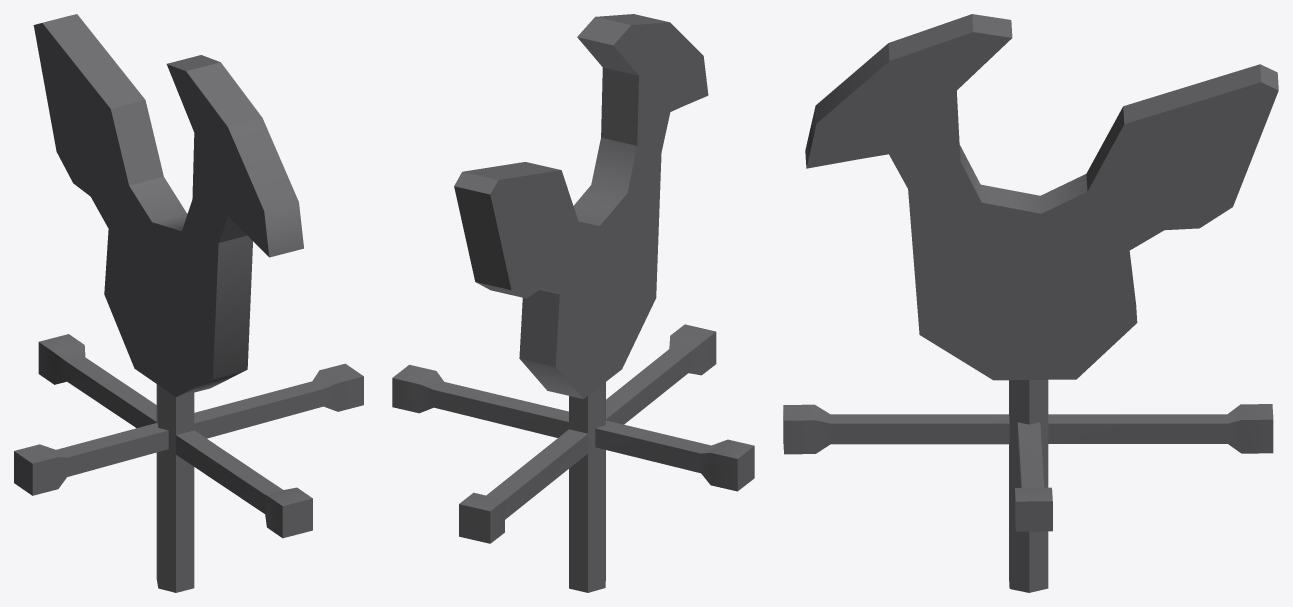
The model's file is SM_Prop_Weathervane_01.glb.
3 views of the same model, side by side, from view 1: azimuth 30°, elevation 25°; view 2: azimuth 150°, elevation 25°; view 3: azimuth 270°, elevation 25° (orthographic). The views are drawn at different scales.
Parts seen in each view (by area): view 1: SM_Prop_Weathervane_01; view 2: SM_Prop_Weathervane_01; view 3: SM_Prop_Weathervane_01.
Boxes of the visible parts, <box> form: SM_Prop_Weathervane_01: <box>14,14,363,592</box>; SM_Prop_Weathervane_01: <box>392,14,754,592</box>; SM_Prop_Weathervane_01: <box>783,14,1278,592</box>.
Bounding box in the file's own units: 0.5151 × 0.783 × 0.6263.
1 material, 1 textured.
